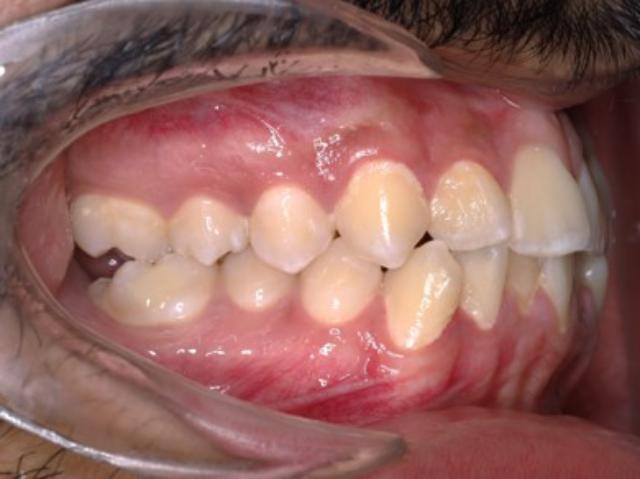canine class II 1/4: (296, 146, 466, 358)
molar class I: (62, 191, 218, 331)
